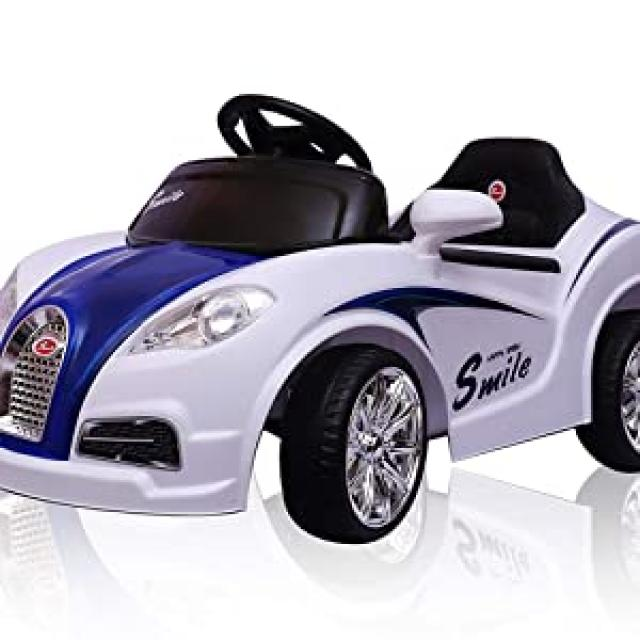Car: (0, 92, 638, 546)
